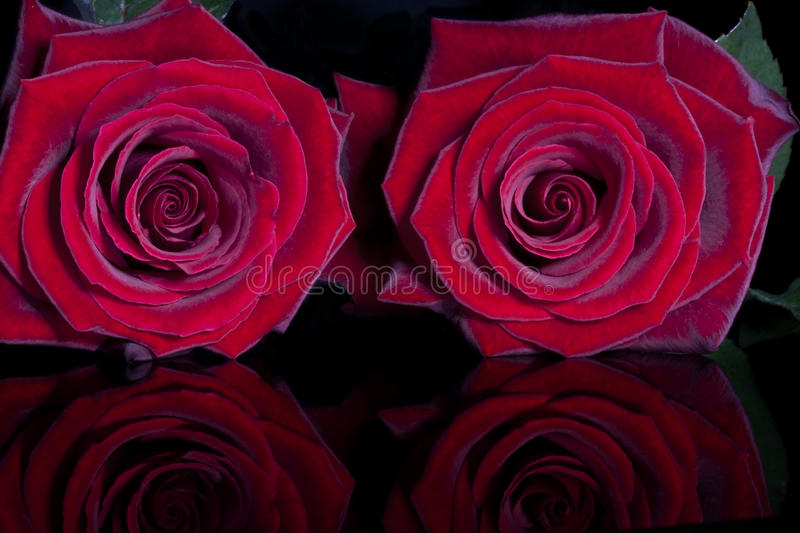RedRose: (399, 27, 761, 326), (30, 49, 318, 325), (421, 358, 743, 533), (39, 370, 356, 533)
